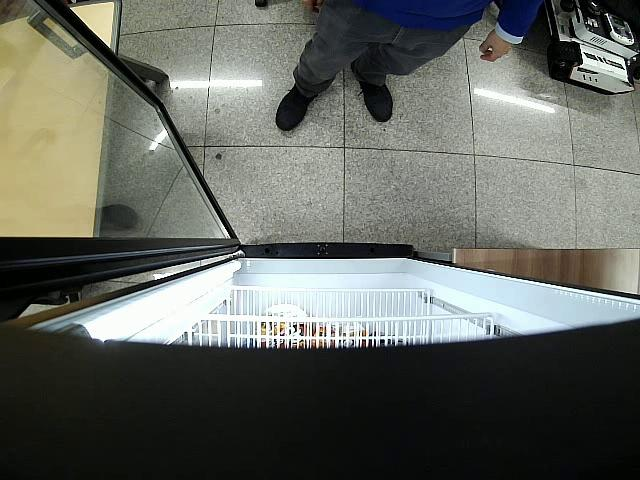00_hand: (479, 29, 510, 61)
